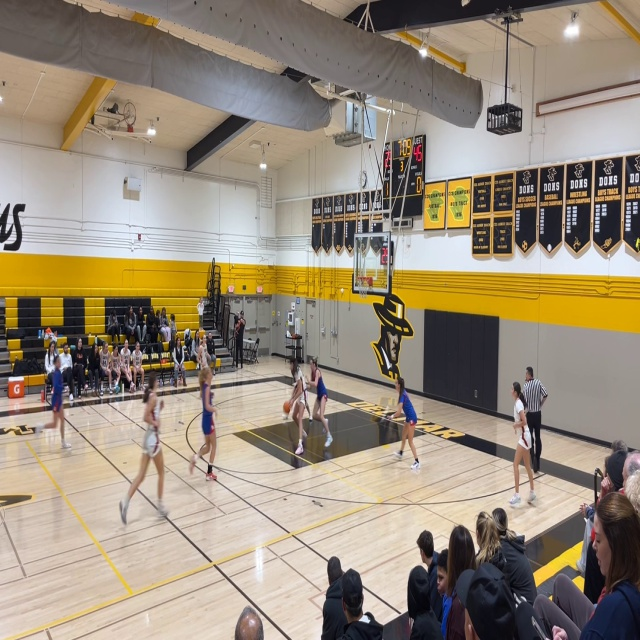Basketball: (283, 401, 291, 412)
